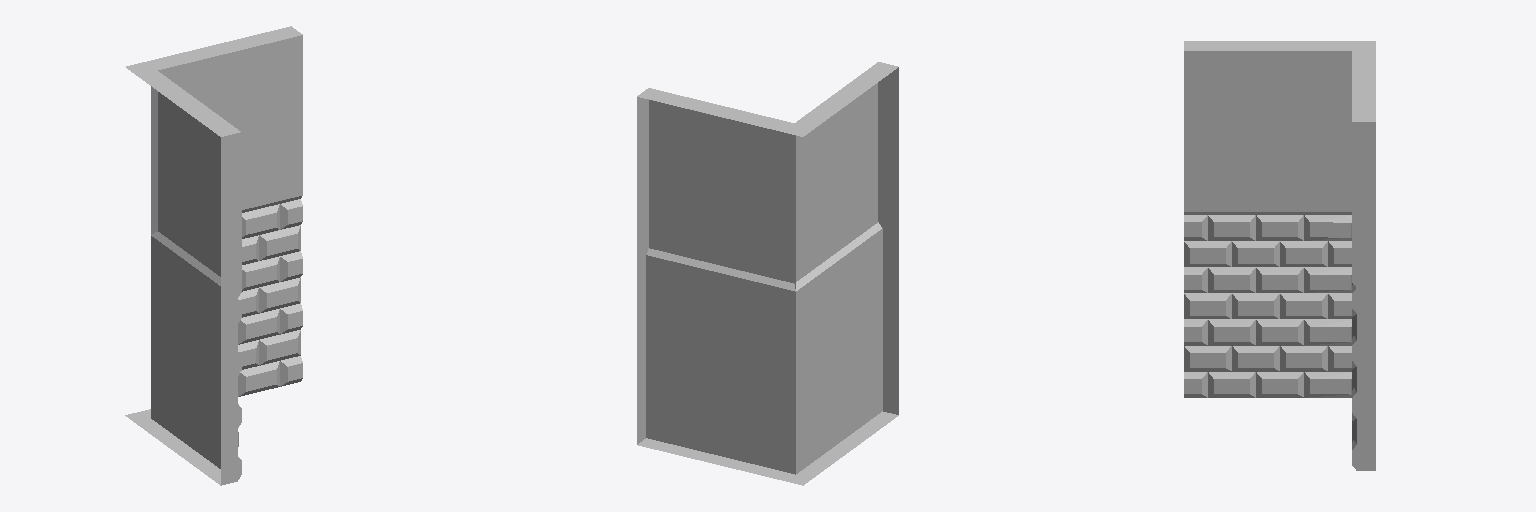
Rendered from wall_modular_tiles_kitchen_corner_inner_B.obj.
The picture shows the model from 3 angles: view 1: azimuth 30°, elevation 25°; view 2: azimuth 150°, elevation 25°; view 3: azimuth 270°, elevation 25°; orthographic projection.
Parts seen in each view (by area): view 1: wall_modular_tiles_kitchen_corner_inner_B; view 2: wall_modular_tiles_kitchen_corner_inner_B; view 3: wall_modular_tiles_kitchen_corner_inner_B.
Part boxes in pixels (left/top/right/bottom): wall_modular_tiles_kitchen_corner_inner_B: left=125, top=26, right=302, bottom=485; wall_modular_tiles_kitchen_corner_inner_B: left=637, top=62, right=898, bottom=485; wall_modular_tiles_kitchen_corner_inner_B: left=1184, top=41, right=1375, bottom=470.
Bounding box in the file's own units: 2 × 4 × 2.